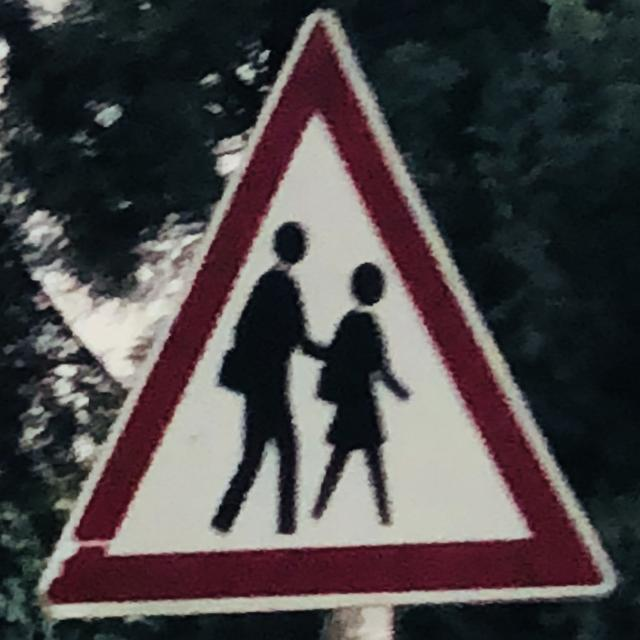school ahead: (50, 20, 605, 589)
